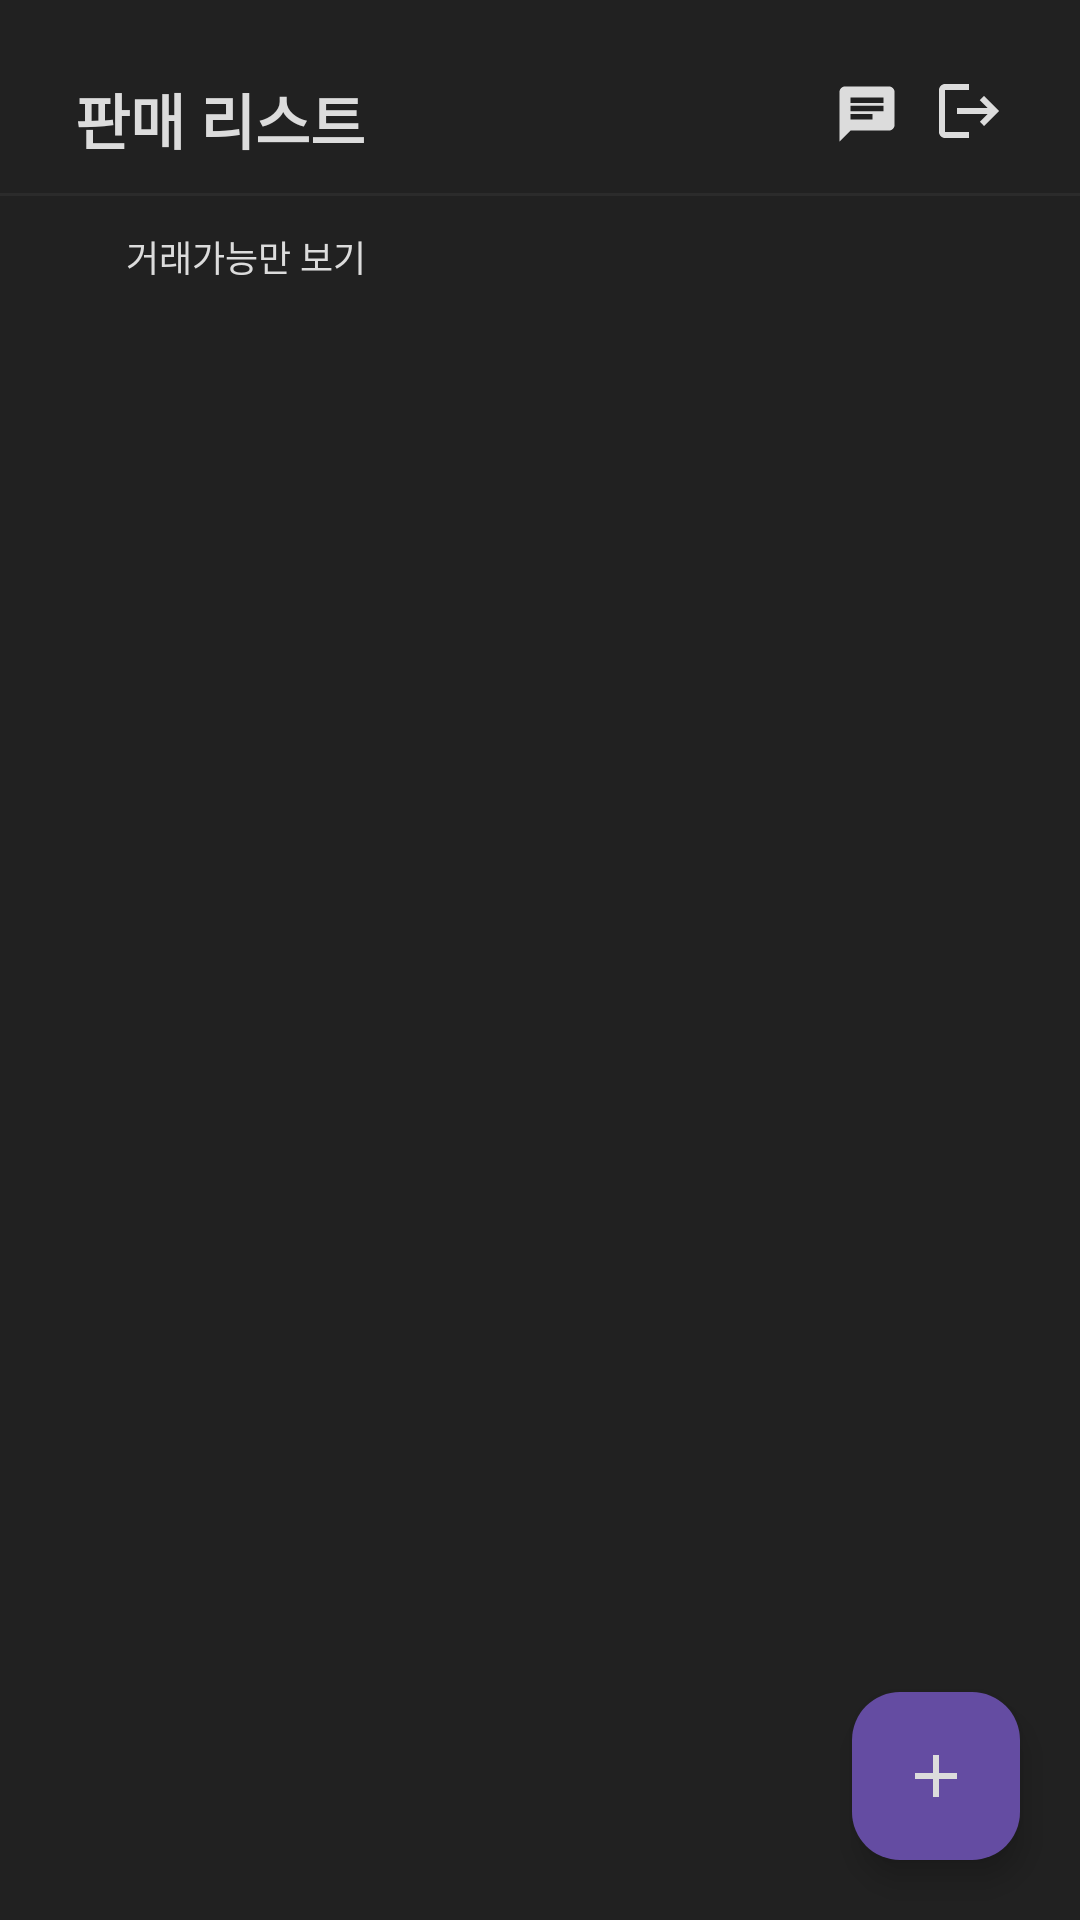

Named icons in this screenshot (1080px×1920px) and their bounding boxes, (x1, y1, x2, y2):
add: (852, 1692, 1020, 1860)
chat: (839, 86, 895, 142)
